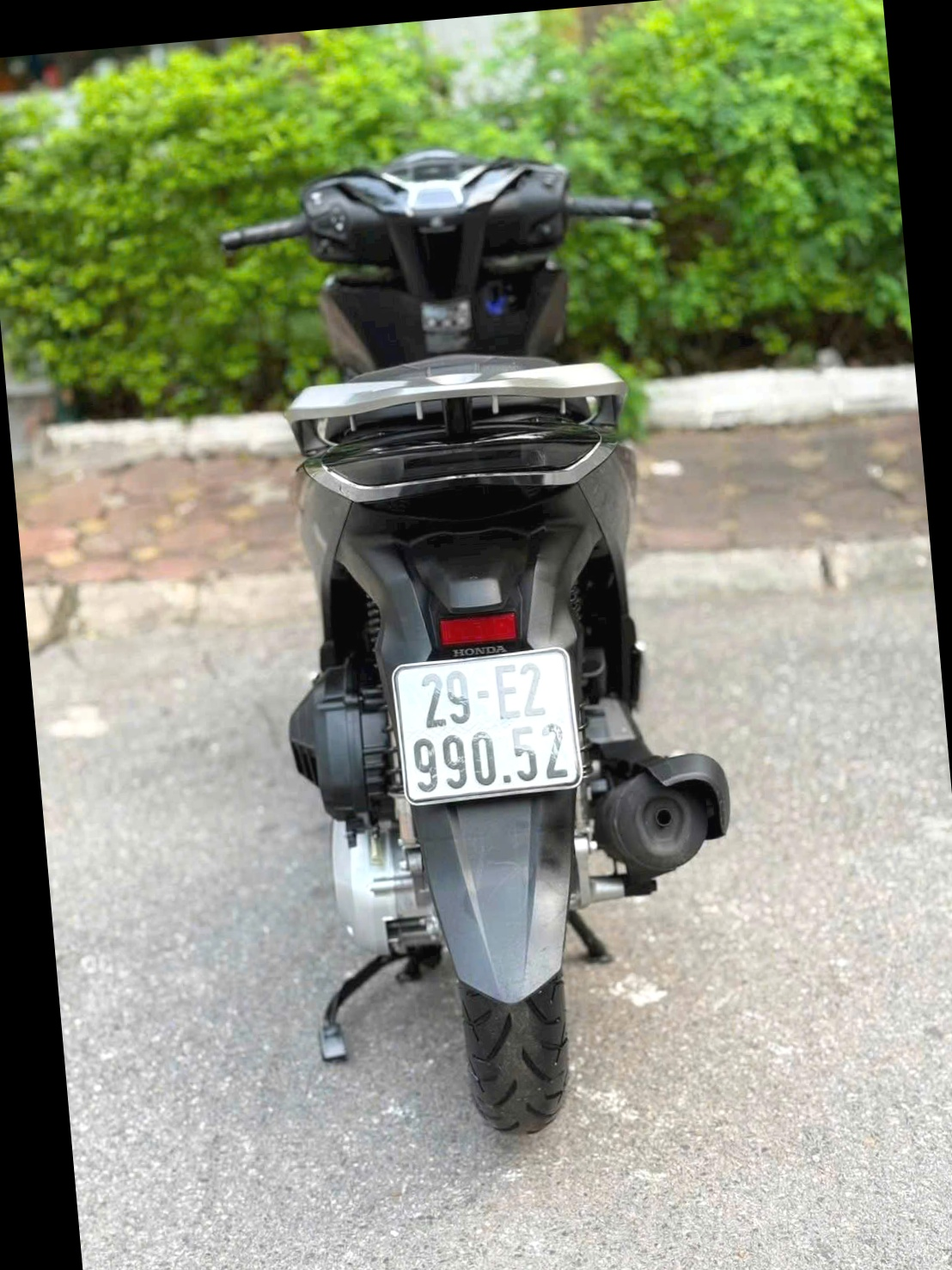Bien-so: (386, 641, 593, 815)
